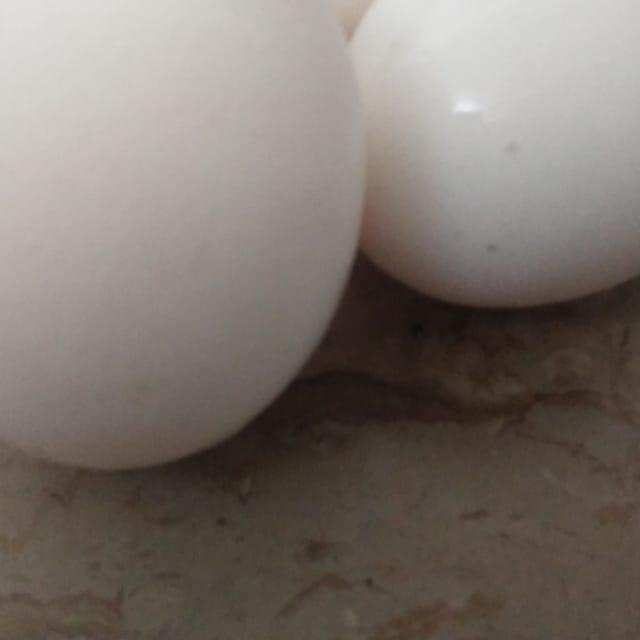egg: (0, 0, 369, 473), (362, 0, 640, 325)
